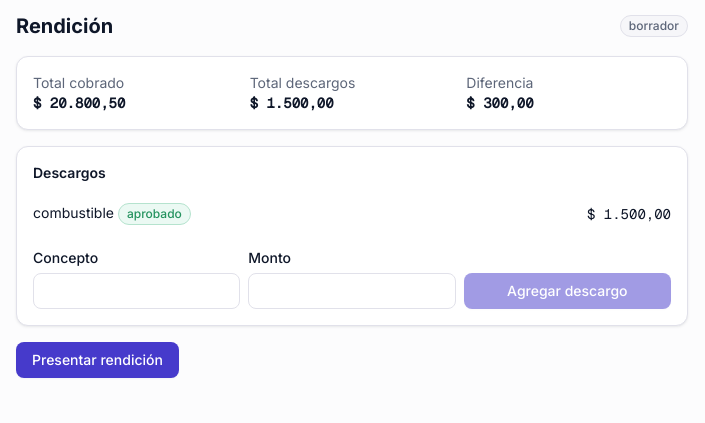
Test: RendicionPage › permite agregar un descargo
expect the text "combustible aprobado" is shown: met, box top-left (33, 203), bottom-right (191, 225)
Type "viáticos" into the field labelled "Concepto" at (137, 291), box top-left (33, 273), bottom-right (240, 309)
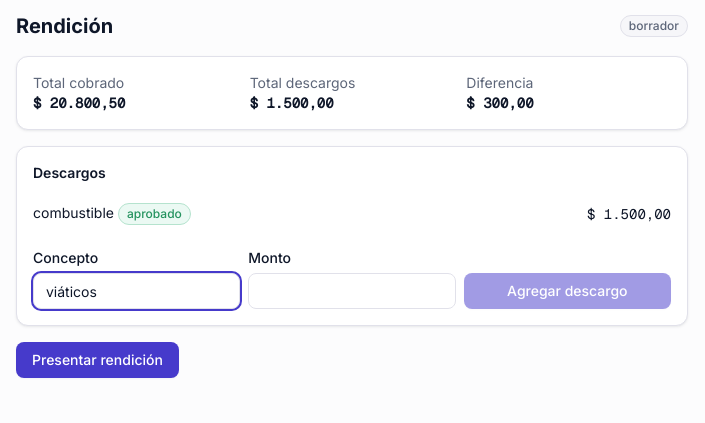
Type "500.00" into the field labelled "Monto" at (352, 291), box top-left (248, 273), bottom-right (456, 309)
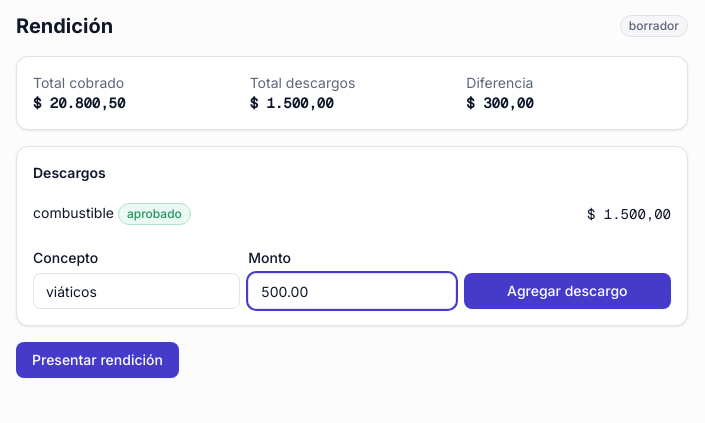
Click the button "Agregar descargo" at (567, 291), box top-left (464, 273), bottom-right (671, 309)
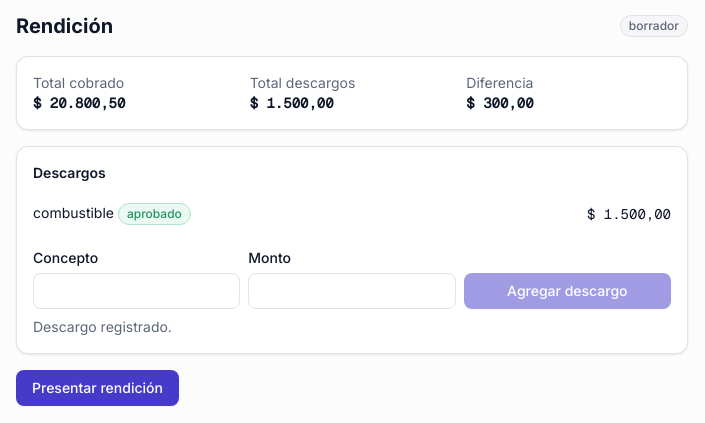
expect the text "Descargo registrado." is shown: met, box top-left (33, 318), bottom-right (172, 335)
